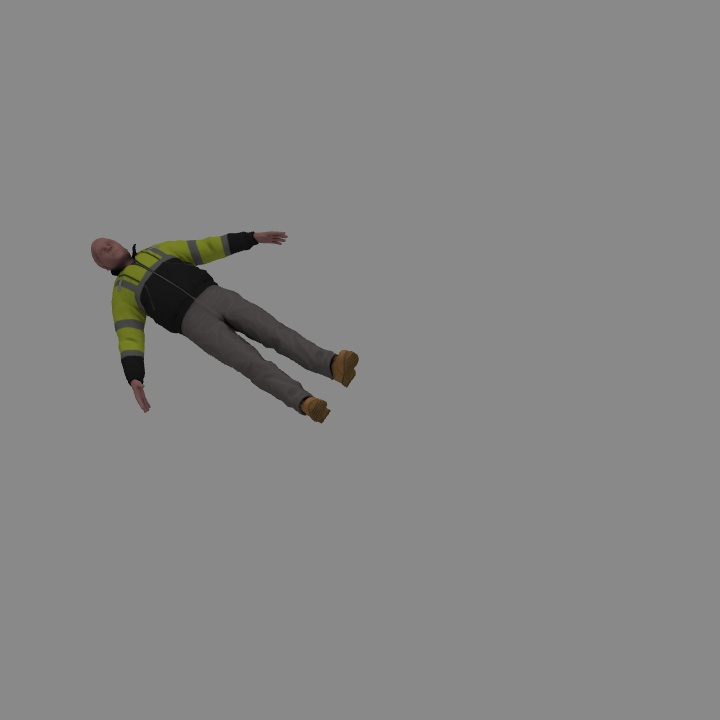victim: (90, 230, 358, 426)
